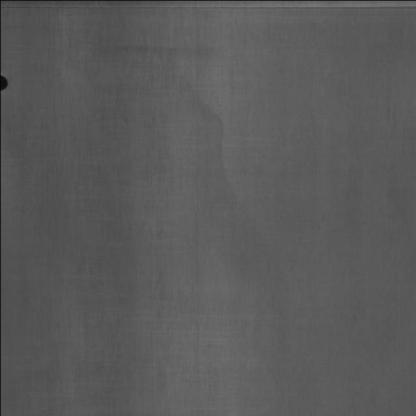punching_hole: (0, 69, 7, 89)
